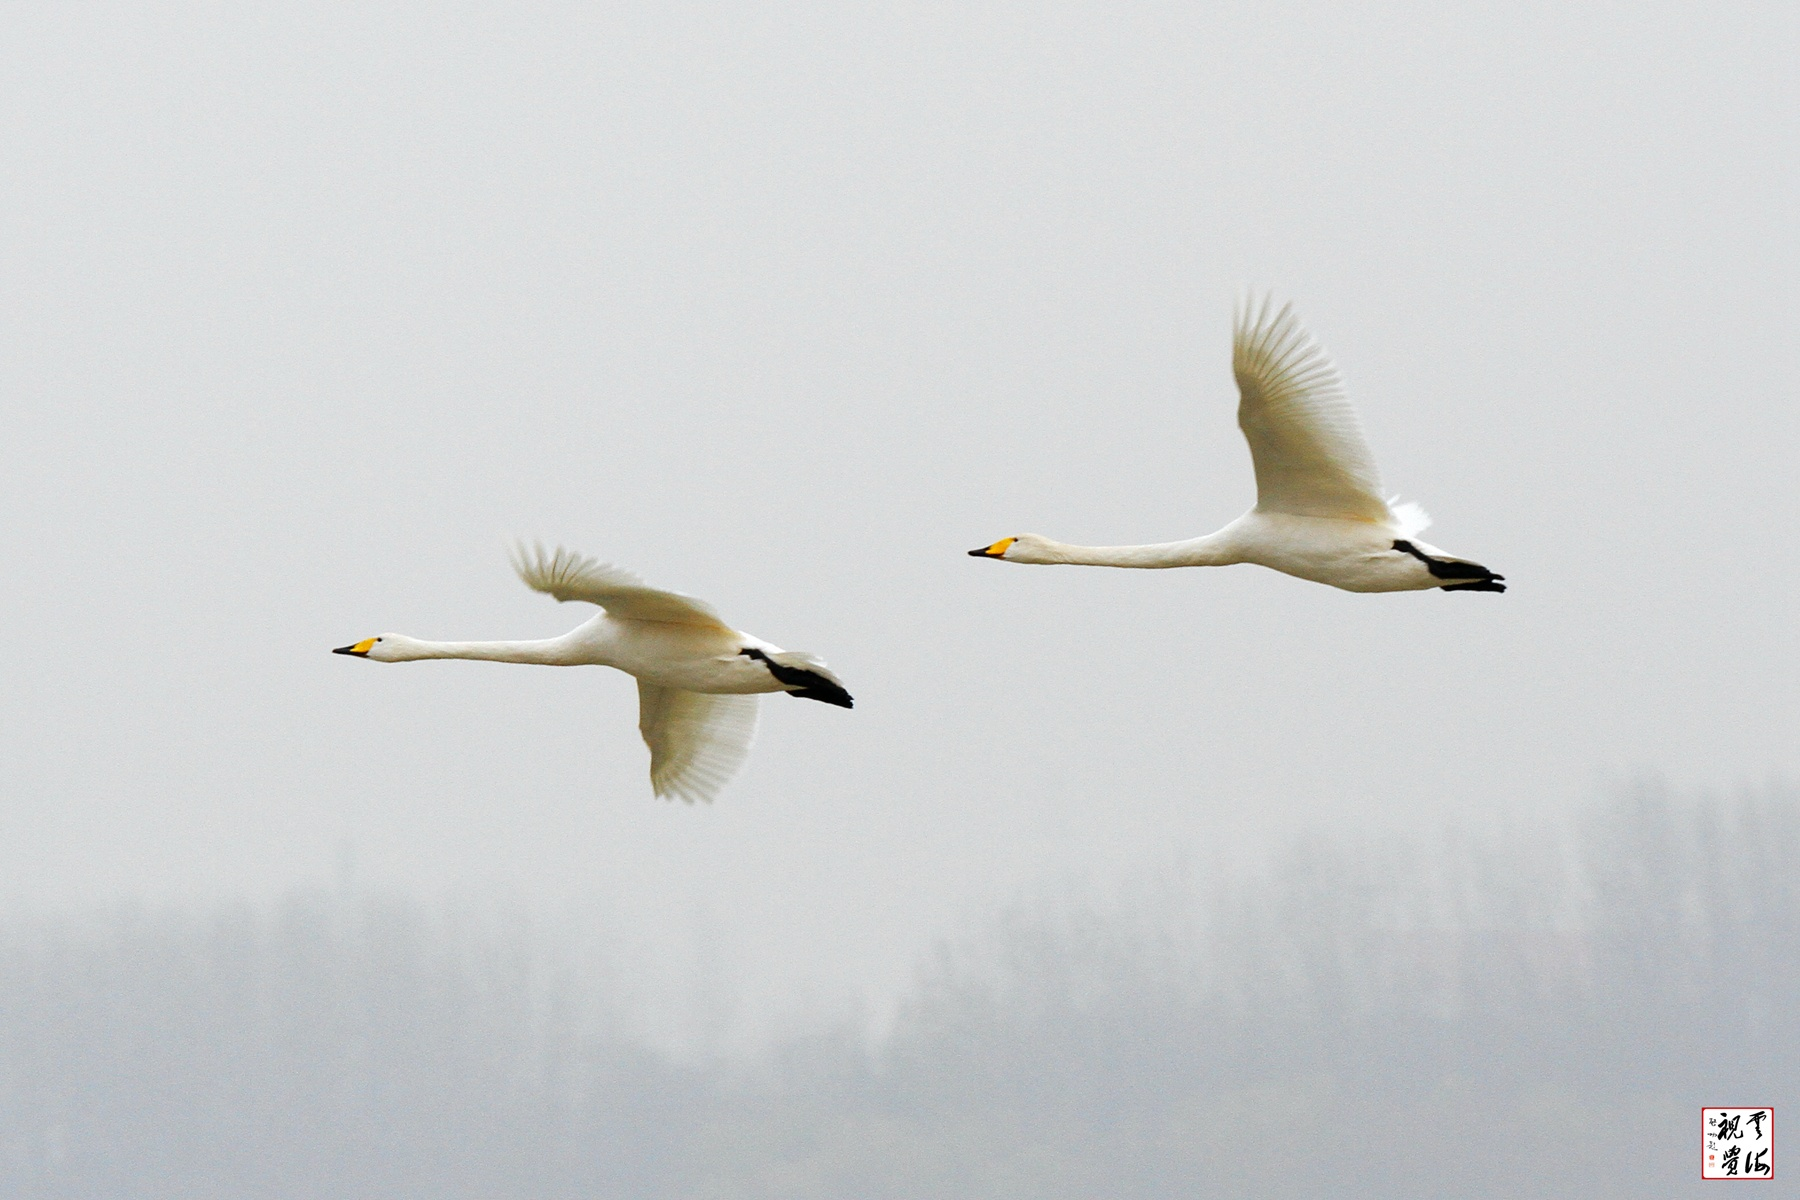bird: (968, 303, 1512, 611), (287, 534, 854, 810)
